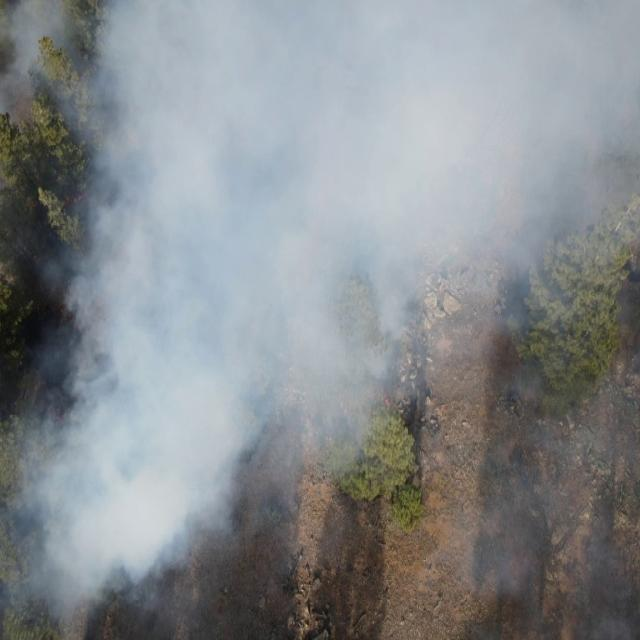fire: (60, 192, 87, 208), (381, 396, 395, 410)
smoke: (42, 0, 312, 640), (439, 2, 640, 640), (313, 1, 442, 494), (0, 385, 43, 640), (0, 0, 41, 135)
